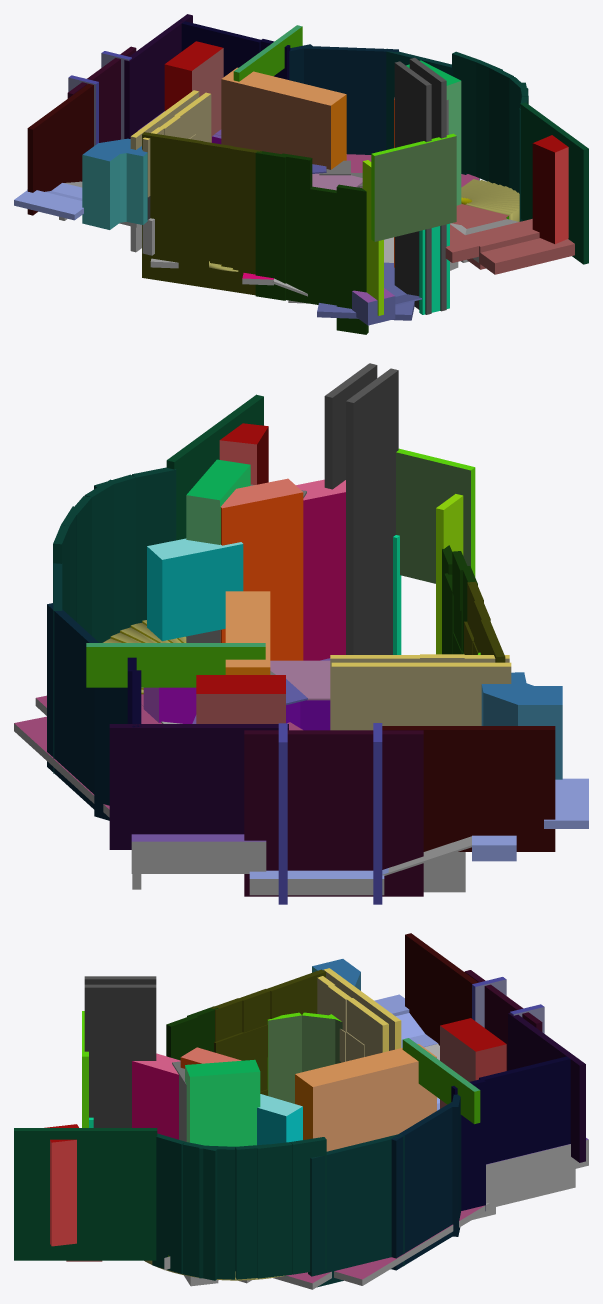
File: warehouse textured V3.fbx
3 renders of one model, top to bottom at view 1: azimuth 30°, elevation 25°; view 2: azimuth 150°, elevation 25°; view 3: azimuth 270°, elevation 25°, orthographic. The views are drawn at different scales.
Parts seen in each view (by area): view 1: straight_wall_component3, stairs_low; view 2: straight_wall_component3, stairs_low; view 3: straight_wall_component3.
Part boxes in pixels (box(x1,y1,x2,y2)): straight_wall_component3: box(14, 14, 588, 334); stairs_low: box(209, 179, 519, 271); straight_wall_component3: box(14, 363, 588, 904); stairs_low: box(103, 620, 186, 694); straight_wall_component3: box(14, 933, 588, 1289).
Size of the model in its own units: 7859 by 4296 by 8029.
